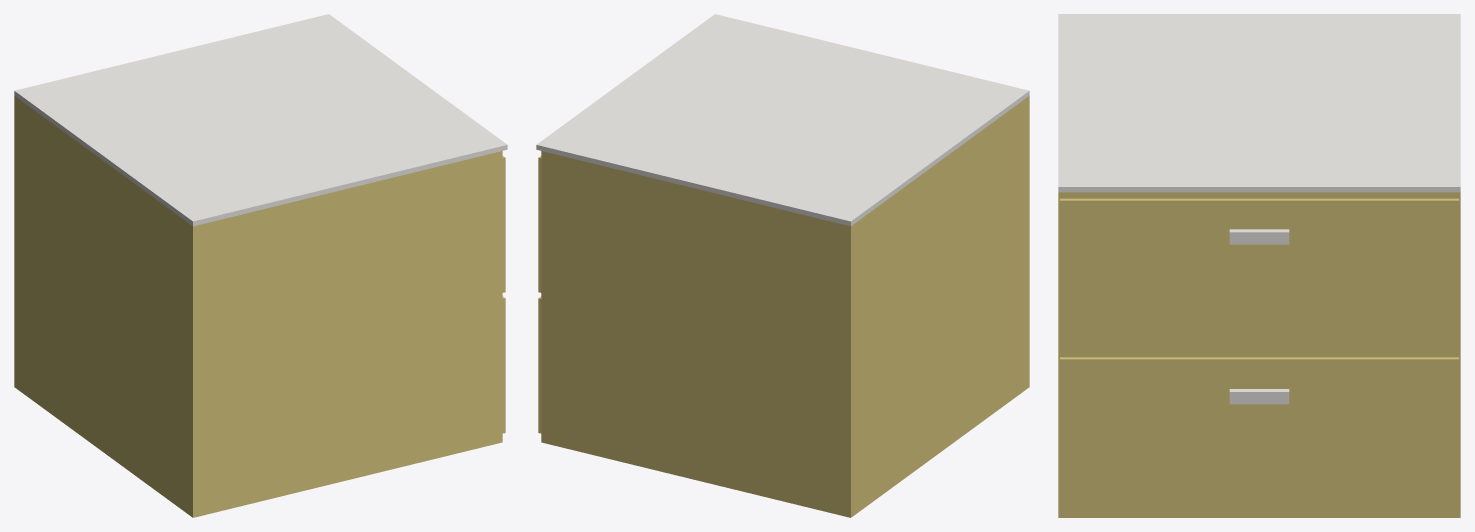
Rendered from KitchenTable2.fbx.
The picture shows the model from 3 angles, left to right: view 1: azimuth 30°, elevation 25°; view 2: azimuth 150°, elevation 25°; view 3: azimuth 270°, elevation 25°; orthographic projection. The views are drawn at different scales.
Parts seen in each view (by area): view 1: polySurface197; view 2: polySurface197; view 3: polySurface197.
Part boxes in pixels (<box>): polySurface197: <box>14,14,507,517</box>; polySurface197: <box>536,14,1029,517</box>; polySurface197: <box>1058,14,1460,517</box>.
Size of the model in its own units: 103 by 91.51 by 100.
